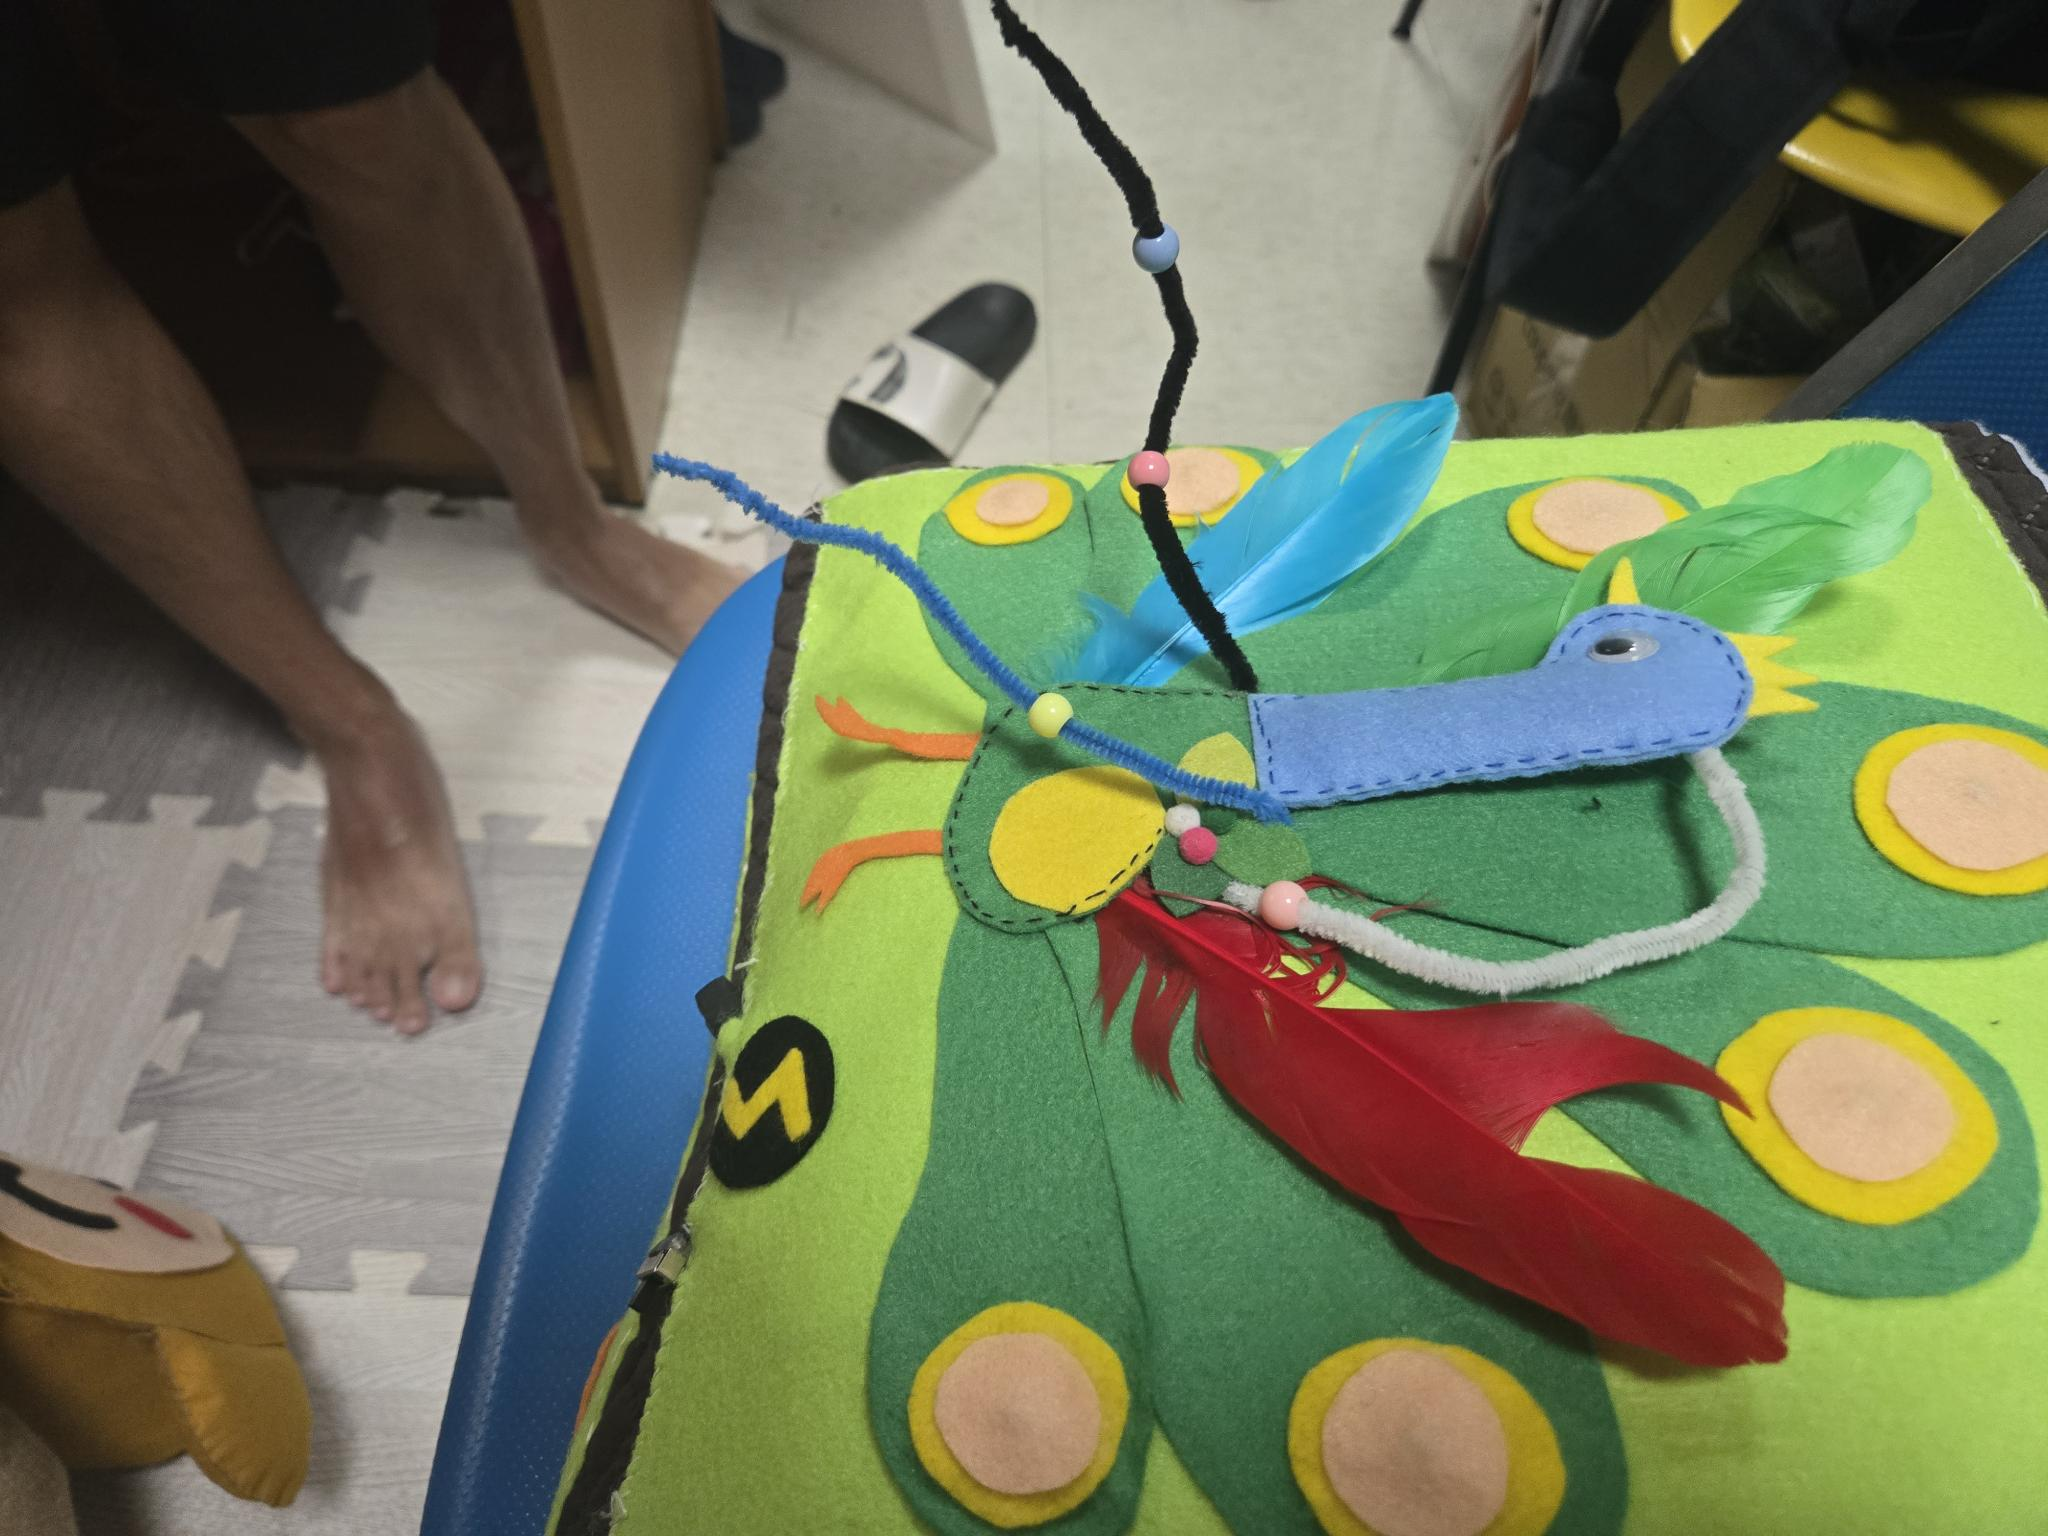bead: (1250, 862, 1313, 942), (1124, 218, 1190, 284), (1024, 681, 1079, 757), (1124, 444, 1182, 499)
